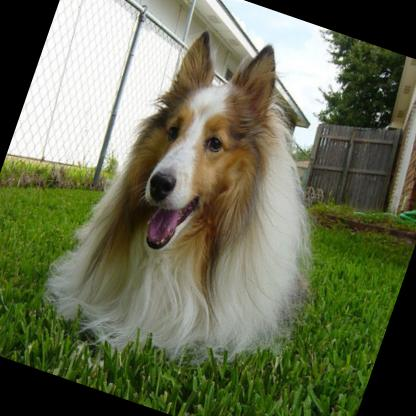Shetland_sheepdog: (28, 0, 387, 400)
